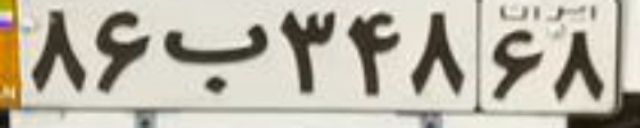3: (278, 9, 339, 94)
4: (349, 12, 402, 96)
6: (94, 10, 153, 93), (486, 29, 544, 99)
8: (30, 8, 88, 93), (409, 12, 466, 97), (548, 29, 603, 102)
be: (160, 22, 273, 94)
